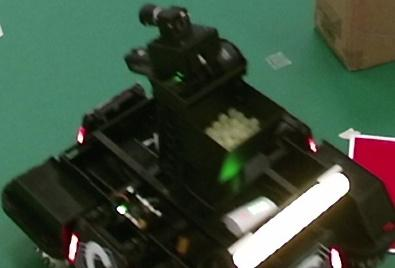light: (228, 167, 350, 268)
